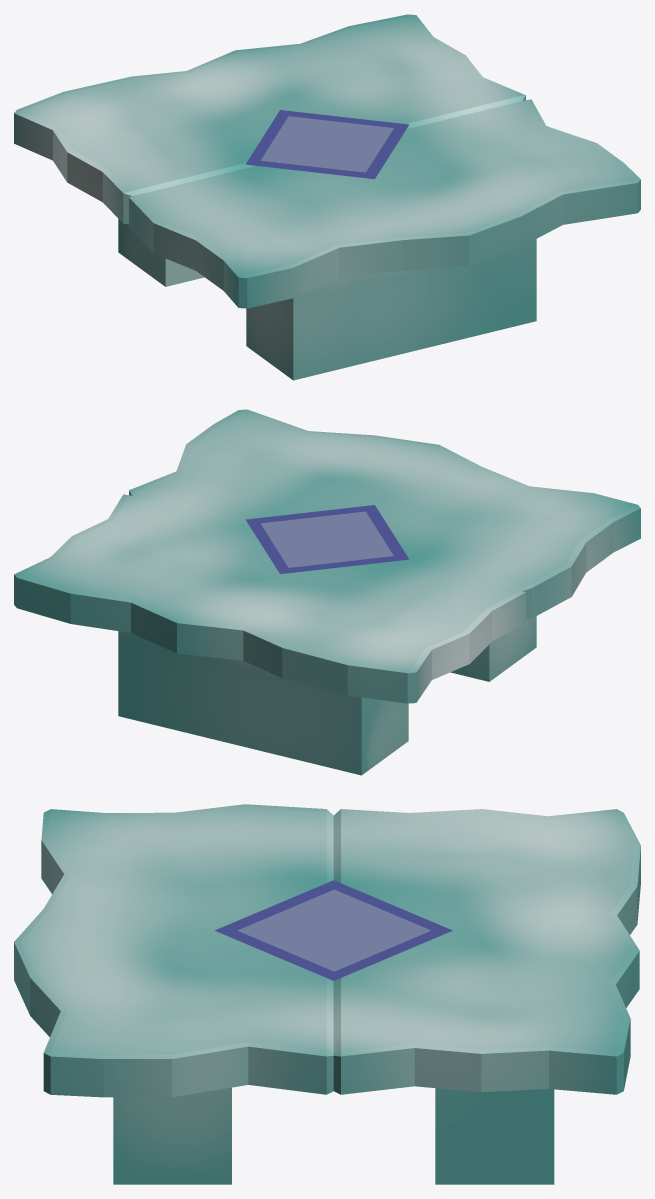
The model's file is Table.glb.
3 views of the same model, one above another, from view 1: azimuth 30°, elevation 25°; view 2: azimuth 150°, elevation 25°; view 3: azimuth 270°, elevation 25° (orthographic). The views are drawn at different scales.
Parts seen in each view (by area): view 1: table big, table cloth; view 2: table big, table cloth; view 3: table big, table cloth.
Part boxes in pixels (x1,y1,x2,y2): table big: (14,14,640,380); table cloth: (245,110,408,179); table big: (14,409,640,775); table cloth: (246,505,409,574); table big: (14,804,640,1184); table cloth: (215,880,452,980).
Bounding box in the file's own units: 1.82 × 0.5963 × 1.89.
2 materials, 2 textured.
